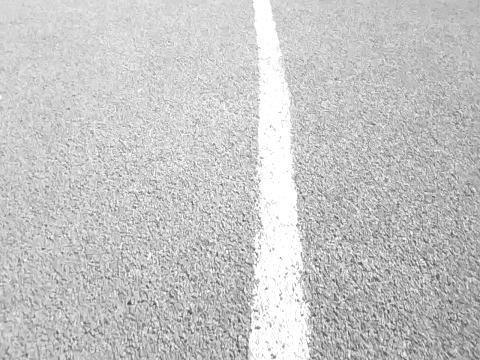Lines: (250, 0, 311, 360)
